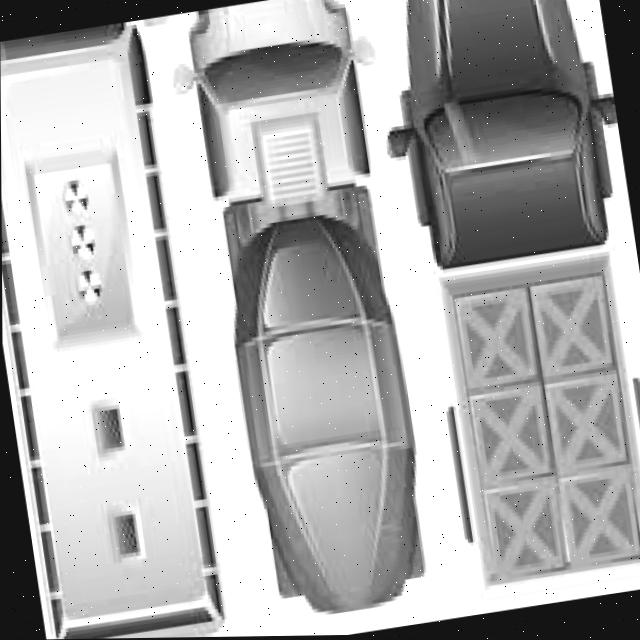truck: (178, 0, 434, 614), (387, 0, 640, 601), (0, 19, 228, 640)
